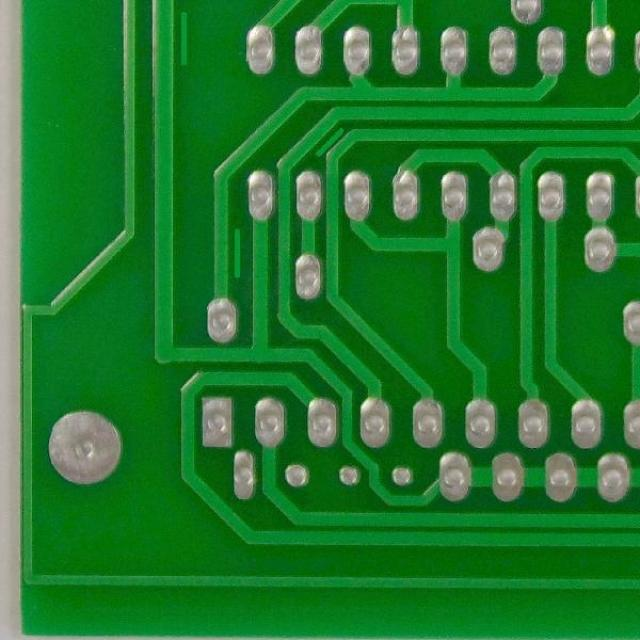spurious_copper: (168, 6, 200, 72), (222, 222, 247, 287), (308, 122, 349, 159)
